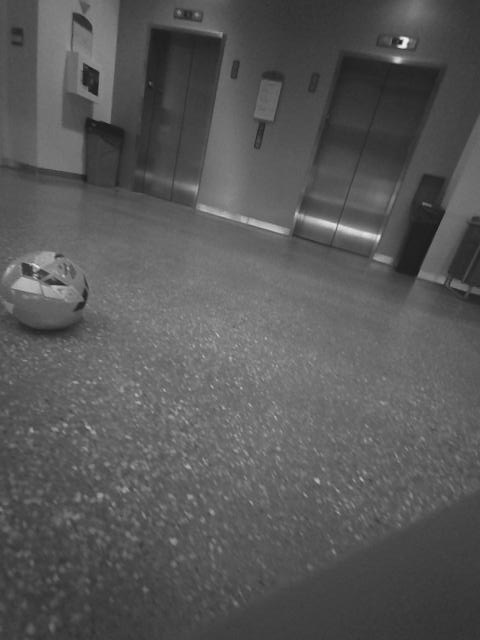ball: (3, 245, 95, 332)
